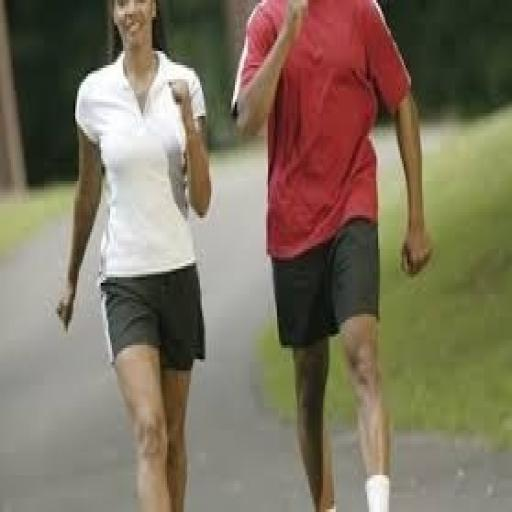running: (229, 0, 435, 509), (55, 0, 215, 509)
